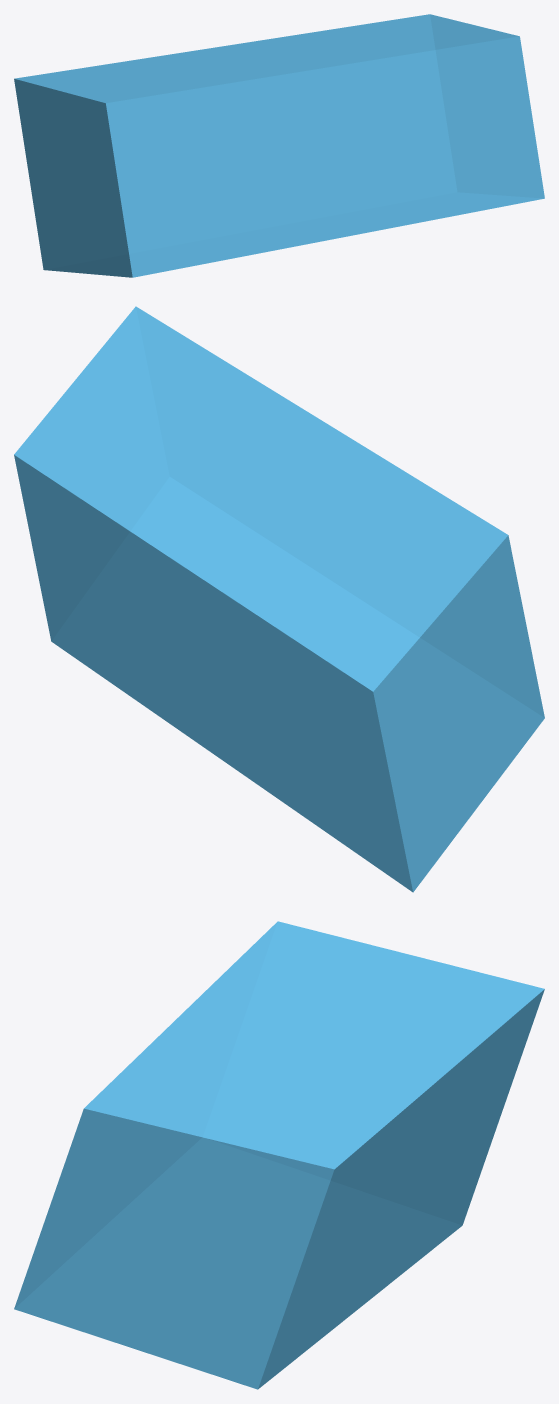
File: Event_421115418_HErechit_4.fbx
3 renders of one model, top to bottom at view 1: azimuth 30°, elevation 25°; view 2: azimuth 150°, elevation 25°; view 3: azimuth 270°, elevation 25°, orthographic. The views are drawn at different scales.
Parts seen in each view (by area): view 1: Model; view 2: Model; view 3: Model.
Boxes of the visible parts, x1,y1,x2,y2 form: Model: (14,14,544,277); Model: (14,306,544,892); Model: (14,921,544,1389).
Size of the model in its own units: 0.7677 by 0.5326 by 0.7351.
